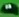black: (0, 0, 19, 17)
